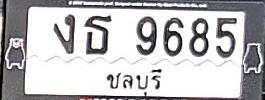5: (216, 17, 236, 58)
6: (163, 17, 183, 56)
8: (188, 17, 208, 57)
9: (136, 15, 156, 55)
A07: (53, 14, 75, 54)
A24: (84, 14, 111, 54)
CBI: (100, 65, 166, 98)
